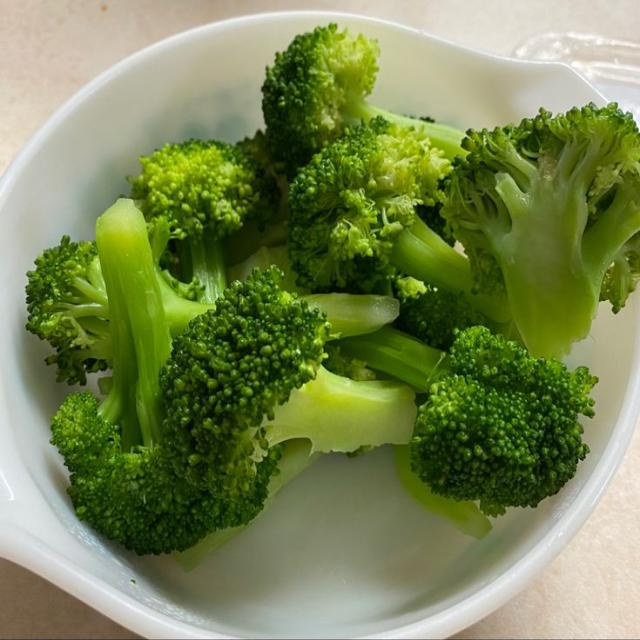broccoli: (52, 200, 232, 554), (162, 268, 416, 507), (443, 103, 639, 357), (337, 326, 597, 516), (289, 118, 508, 320), (262, 23, 464, 178), (129, 140, 281, 302), (26, 237, 113, 383), (394, 277, 495, 350)
